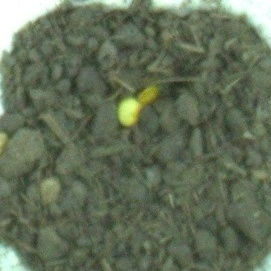chilli seed: (114, 96, 142, 128), (136, 83, 160, 109)
